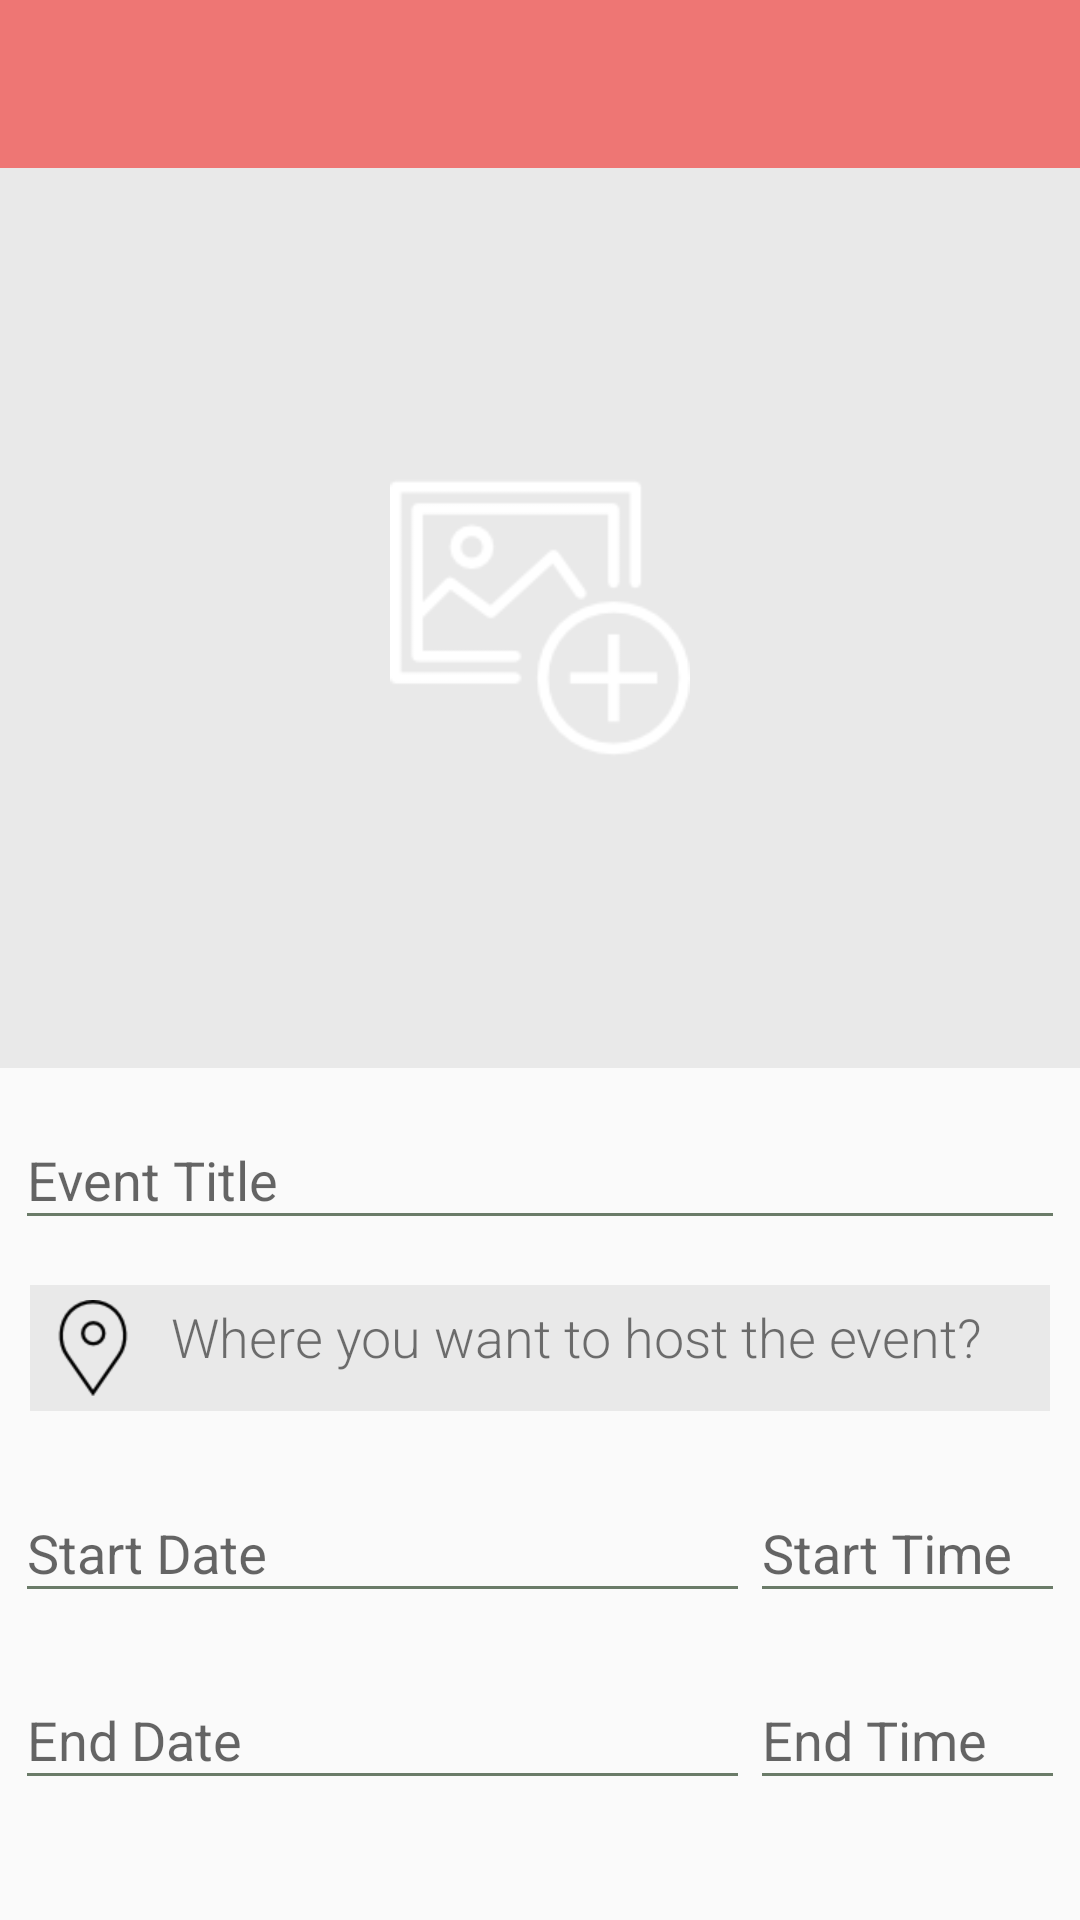

Named icons in this screenshot (1080×1920) and their centers, [x,y]:
place: [93,1348]
